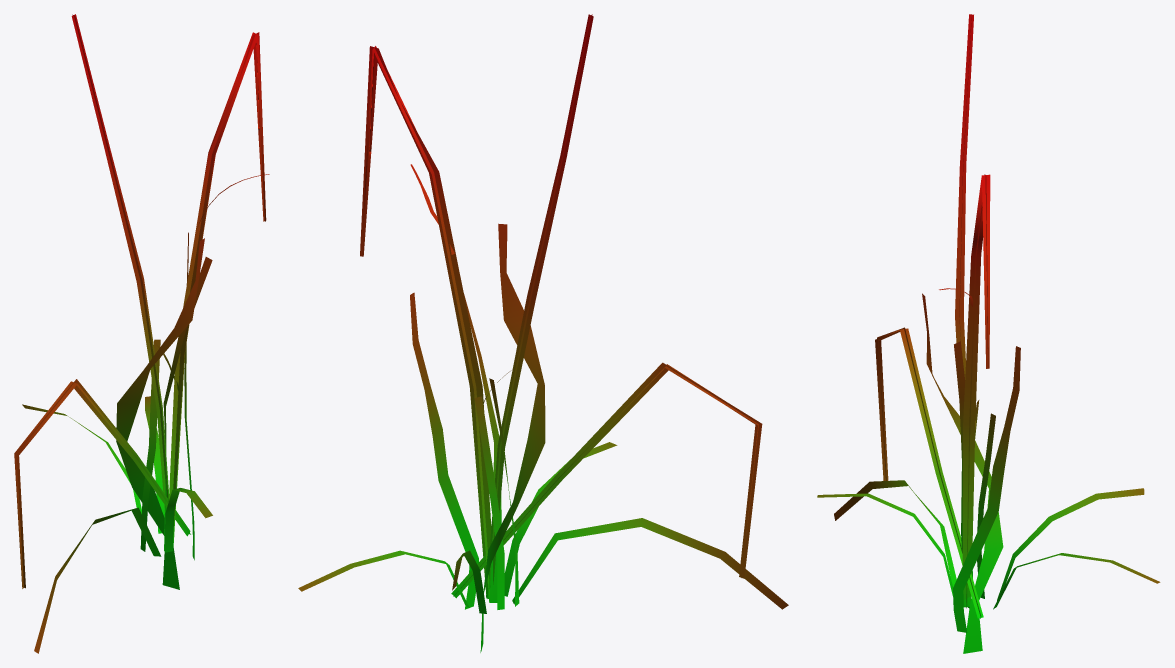
The model's file is Wheat Grass_LOD1_Var5_tdcrdbur.fbx.
The picture shows the model from 3 angles, left to right: view 1: azimuth 30°, elevation 25°; view 2: azimuth 150°, elevation 25°; view 3: azimuth 270°, elevation 25°; orthographic projection. The views are drawn at different scales.
Parts seen in each view (by area): view 1: _a20d_Var5_LOD1; view 2: _a20d_Var5_LOD1; view 3: _a20d_Var5_LOD1.
Boxes of the visible parts, left/top/right/bottom form: _a20d_Var5_LOD1: left=14, top=14, right=269, bottom=653; _a20d_Var5_LOD1: left=298, top=14, right=788, bottom=652; _a20d_Var5_LOD1: left=817, top=14, right=1160, bottom=653.
Bounding box in the file's own units: 36.2 × 66.62 × 35.08.
